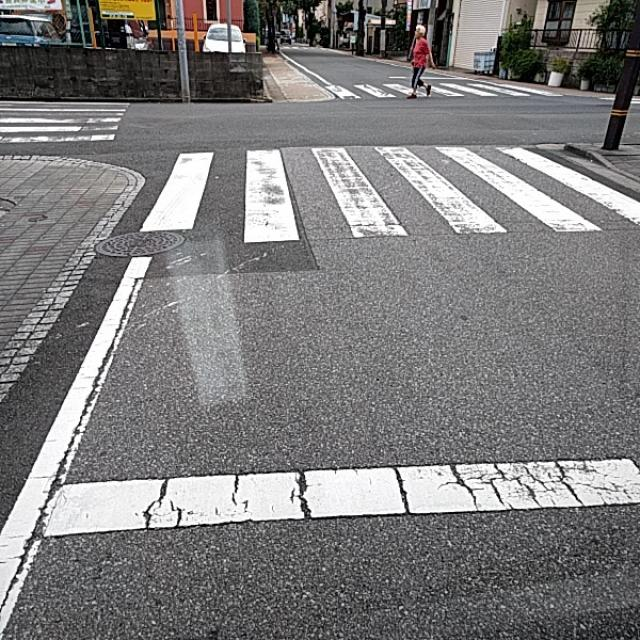pothole: (150, 435, 518, 545)
